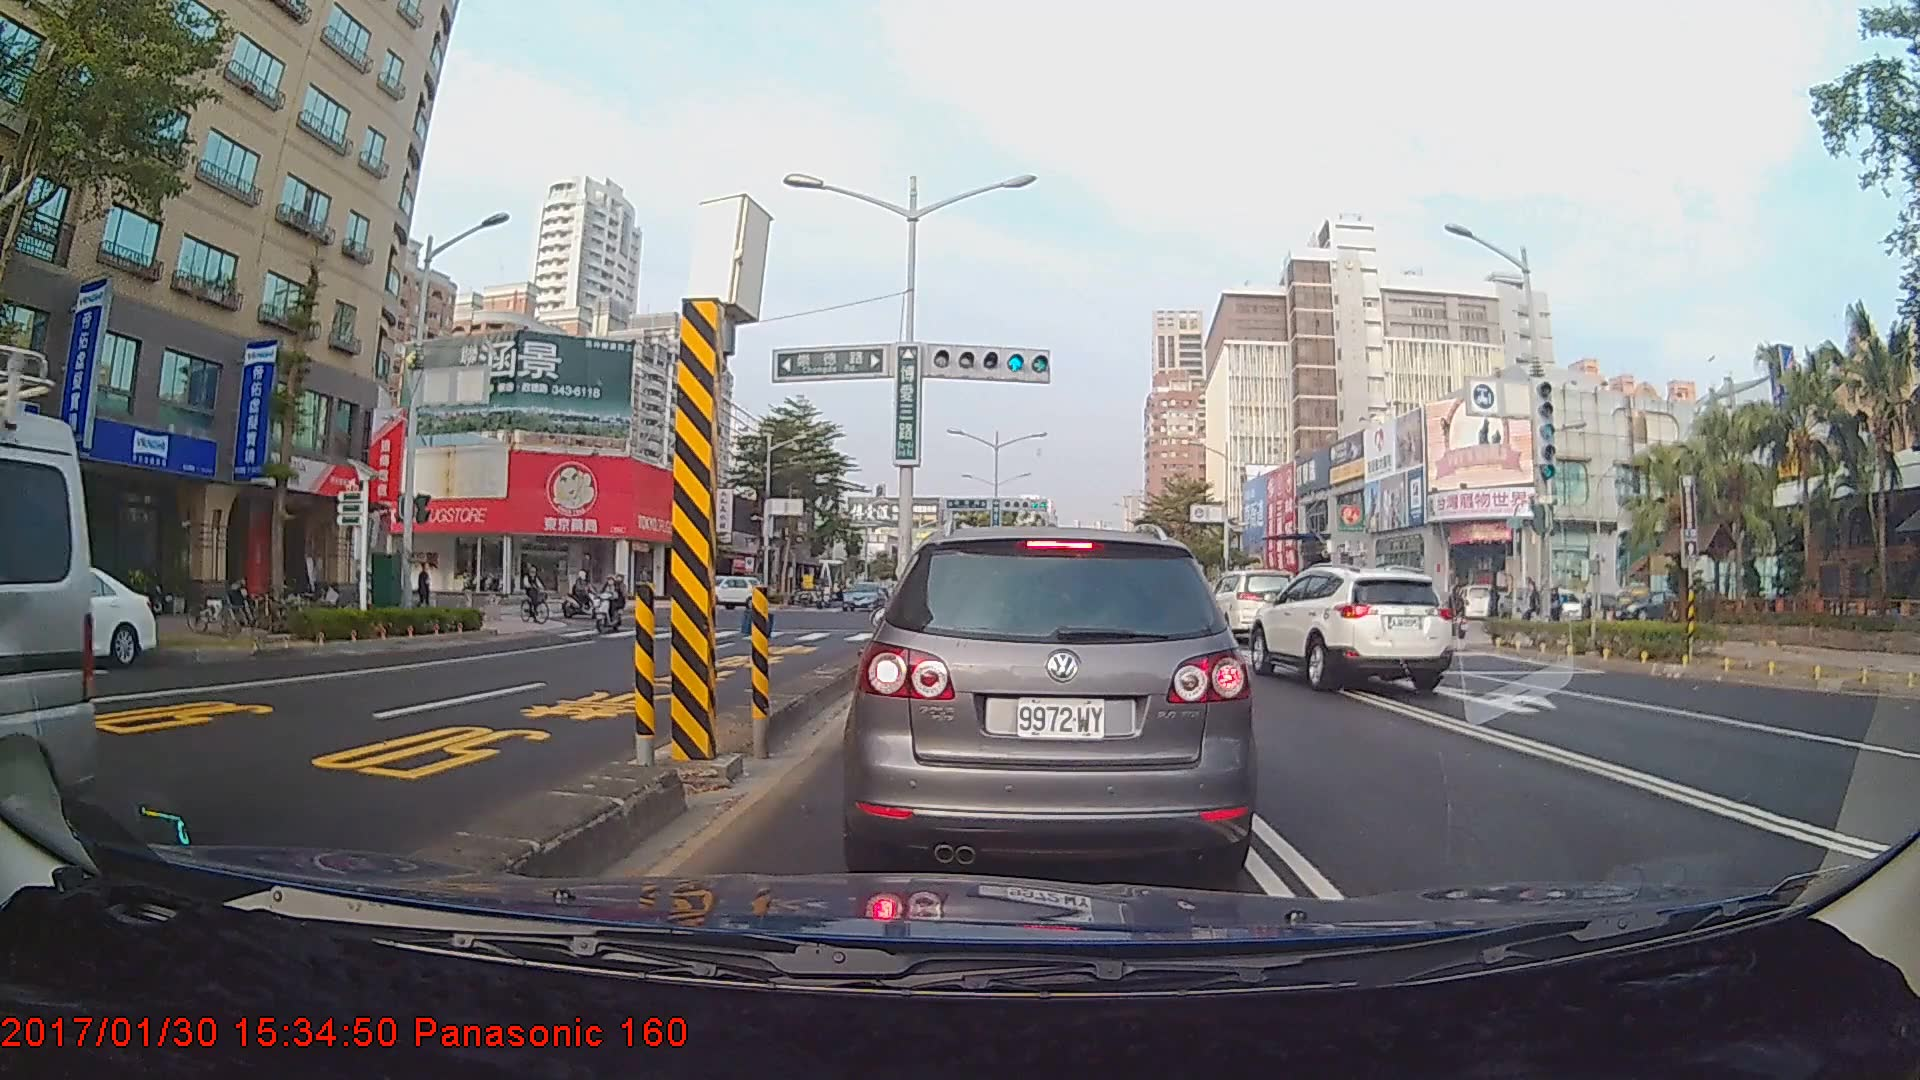pedestrian: (413, 558, 437, 621), (1485, 579, 1509, 637)
rider: (590, 570, 633, 640), (562, 568, 614, 625), (518, 559, 553, 629)
vehicle: (853, 522, 1249, 874), (1249, 562, 1454, 692), (0, 561, 157, 671), (1198, 567, 1297, 640), (842, 580, 885, 612)
